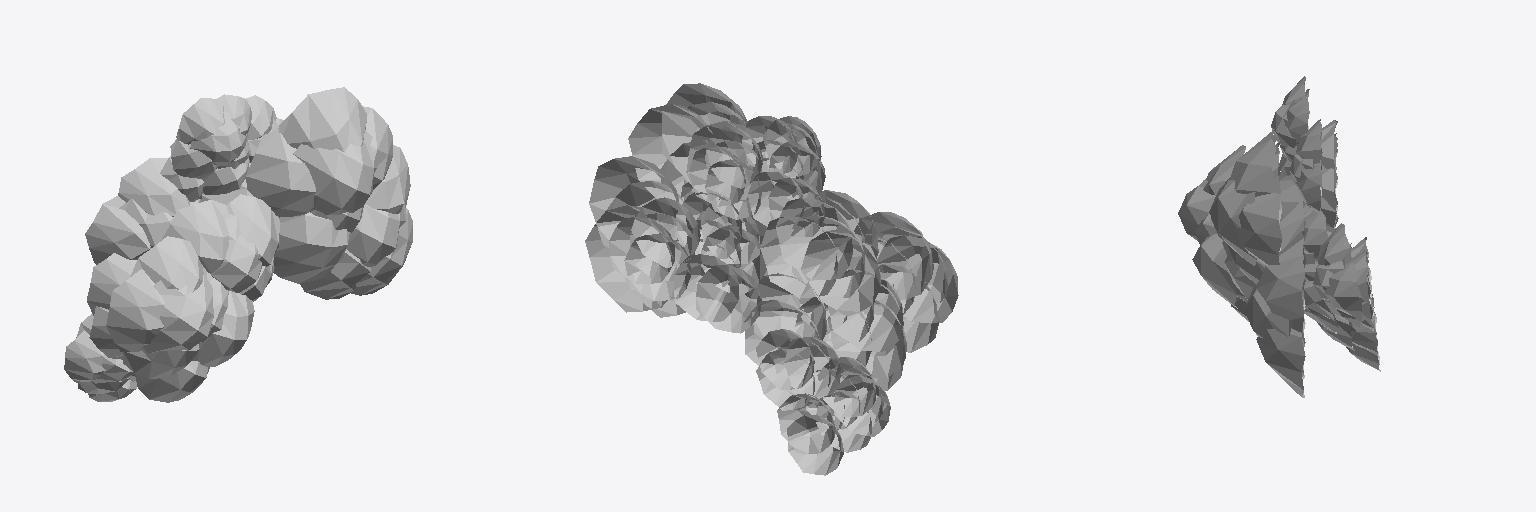
File: brandi.obj
The picture shows the model from 3 angles: view 1: azimuth 30°, elevation 25°; view 2: azimuth 150°, elevation 25°; view 3: azimuth 270°, elevation 25°; orthographic projection.
Parts seen in each view (by area): view 1: mmGroup2, mmGroup10, mmGroup6, mmGroup0, mmGroup4; view 2: mmGroup6, mmGroup8, mmGroup2, mmGroup4, mmGroup0, mmGroup10; view 3: mmGroup2, mmGroup8, mmGroup10, mmGroup0, mmGroup4, mmGroup6.
Part boxes in pixels (x1,y1,x2,y2): mmGroup2: (201, 87, 412, 299); mmGroup10: (106, 194, 280, 402); mmGroup6: (85, 158, 200, 359); mmGroup0: (160, 94, 283, 201); mmGroup4: (64, 314, 136, 401); mmGroup6: (744, 198, 906, 377); mmGroup8: (609, 192, 766, 333); mmGroup2: (585, 83, 767, 317); mmGroup4: (756, 329, 890, 475); mmGroup0: (689, 116, 825, 236); mmGroup10: (819, 190, 958, 390); mmGroup2: (1209, 129, 1305, 397); mmGroup8: (1303, 201, 1364, 327); mmGroup10: (1178, 145, 1248, 321); mmGroup0: (1271, 76, 1322, 214); mmGroup4: (1317, 237, 1380, 371); mmGroup6: (1280, 120, 1338, 333).
Size of the model in its own units: 151 by 135 by 78.61.